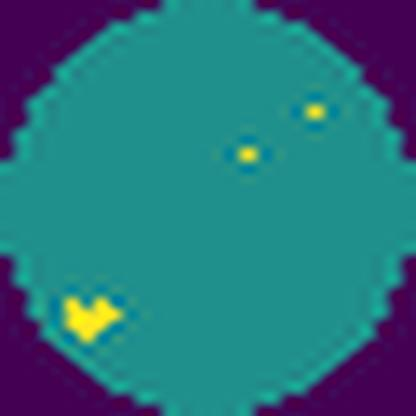Loc: (59, 286, 124, 356)
